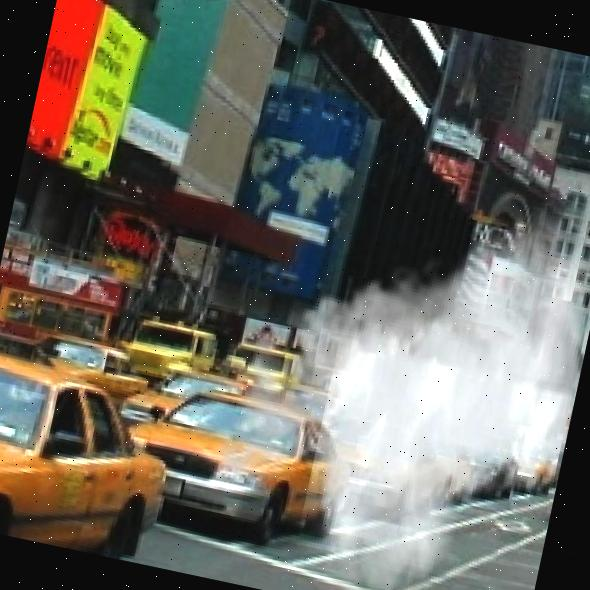smoke: (179, 149, 590, 590)
